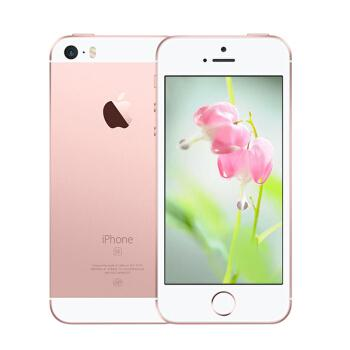phone: (152, 33, 294, 324), (46, 33, 159, 328)
